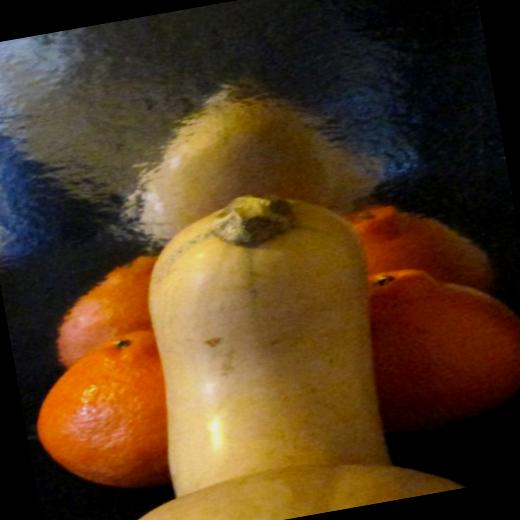Grape: (357, 249, 520, 437), (22, 328, 185, 506), (341, 188, 495, 314), (43, 254, 174, 371)
